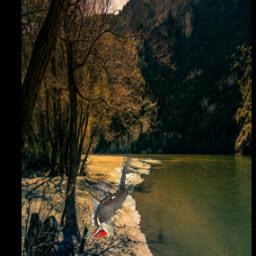Woodpecker: (84, 157, 135, 240)
